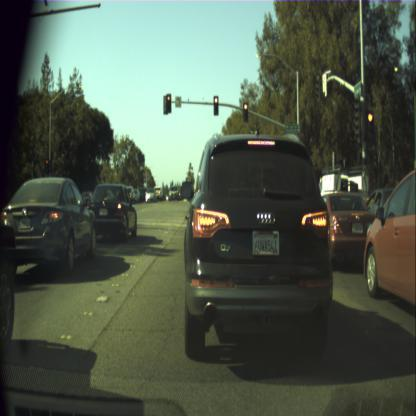Red: (365, 110, 374, 140), (213, 94, 218, 116), (243, 102, 248, 122)
RedLeft: (166, 93, 171, 114)
